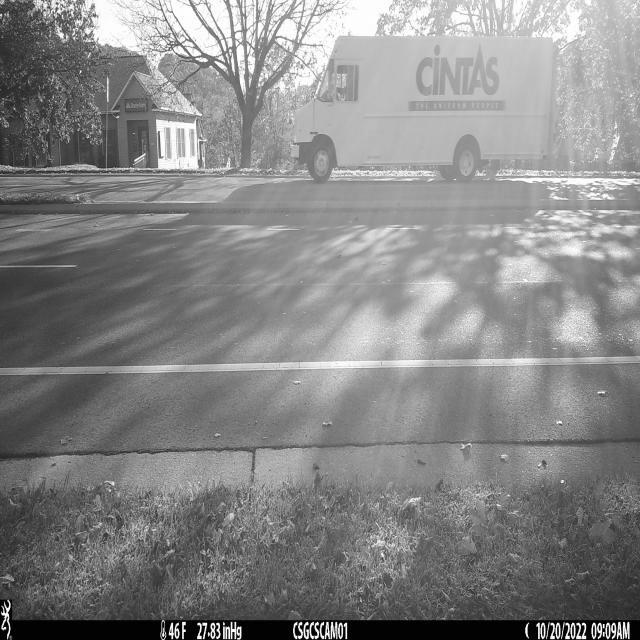Box Truck: (290, 36, 556, 184)
